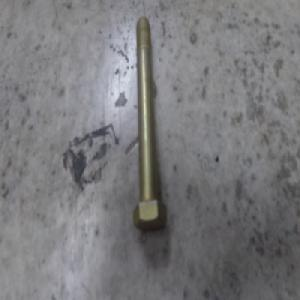Bolt: (133, 21, 169, 229)
